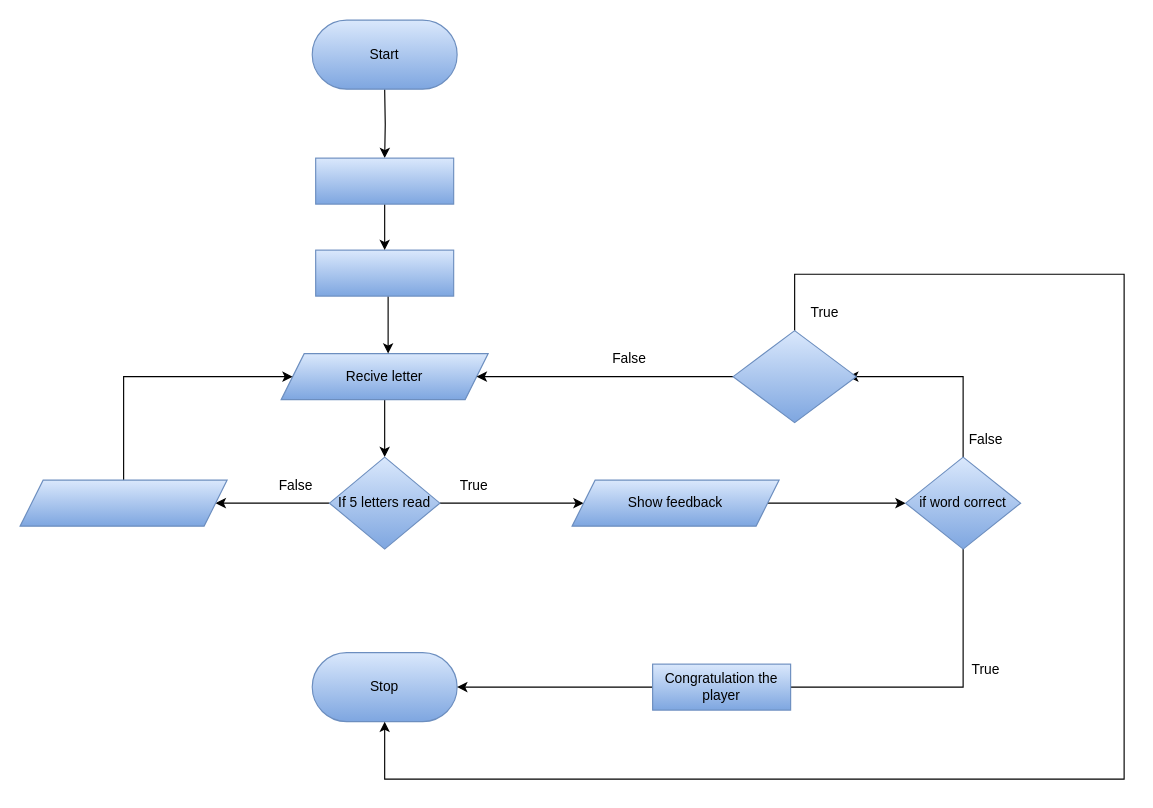
The diagram is 1153 pixels wide and 808 high, and some of its shapes have lost their labels. The shapes that lost their labels are listed below. From the top down, each one's centre as x and y in pixels, then its label:
At [384,180]: "Connect to keyboard via wifi".
At [384,272]: "Random choice a word".
At [794,376]: "If last try".
At [123,502]: "Error".
